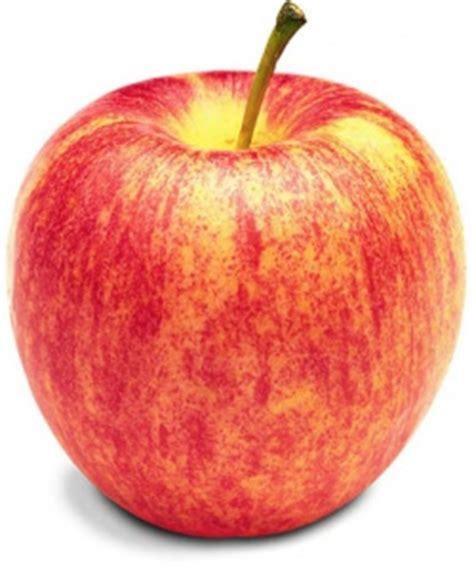apple: (6, 57, 469, 544)
